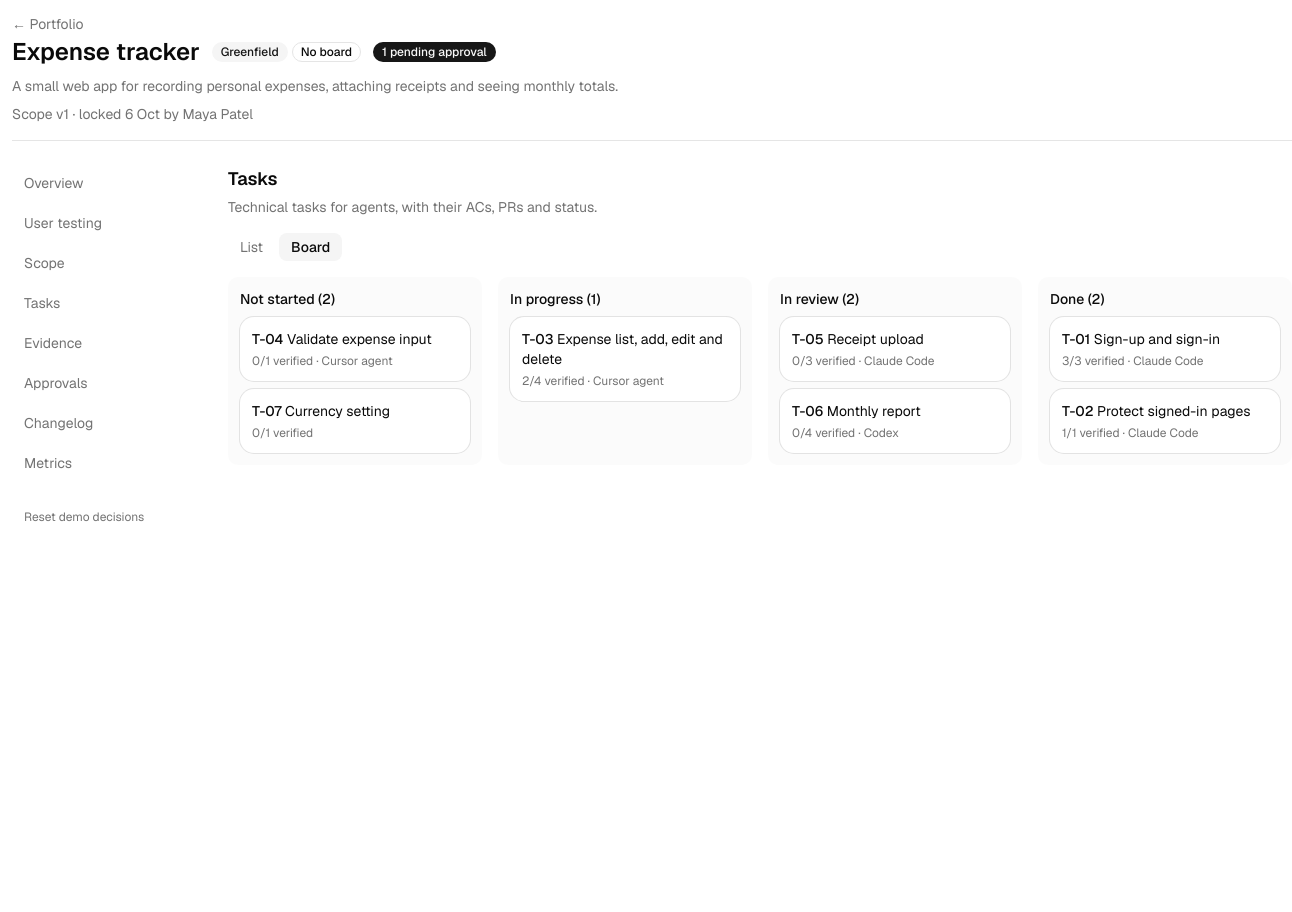
it: TasksView › shows the board with one column per status
Check: the headings read "Not started (2)", "In progress (1)", "In review (2)", "Done (2)", in this order, box [240,290,335,308]; [510,290,601,308]; [780,290,859,308]; [1050,290,1104,308]
Check: the element "Done (2)" is shown, box [1038,277,1291,465]
Click the button "T-05 Receipt upload".
click(858, 339)  # box [792,329,924,349]
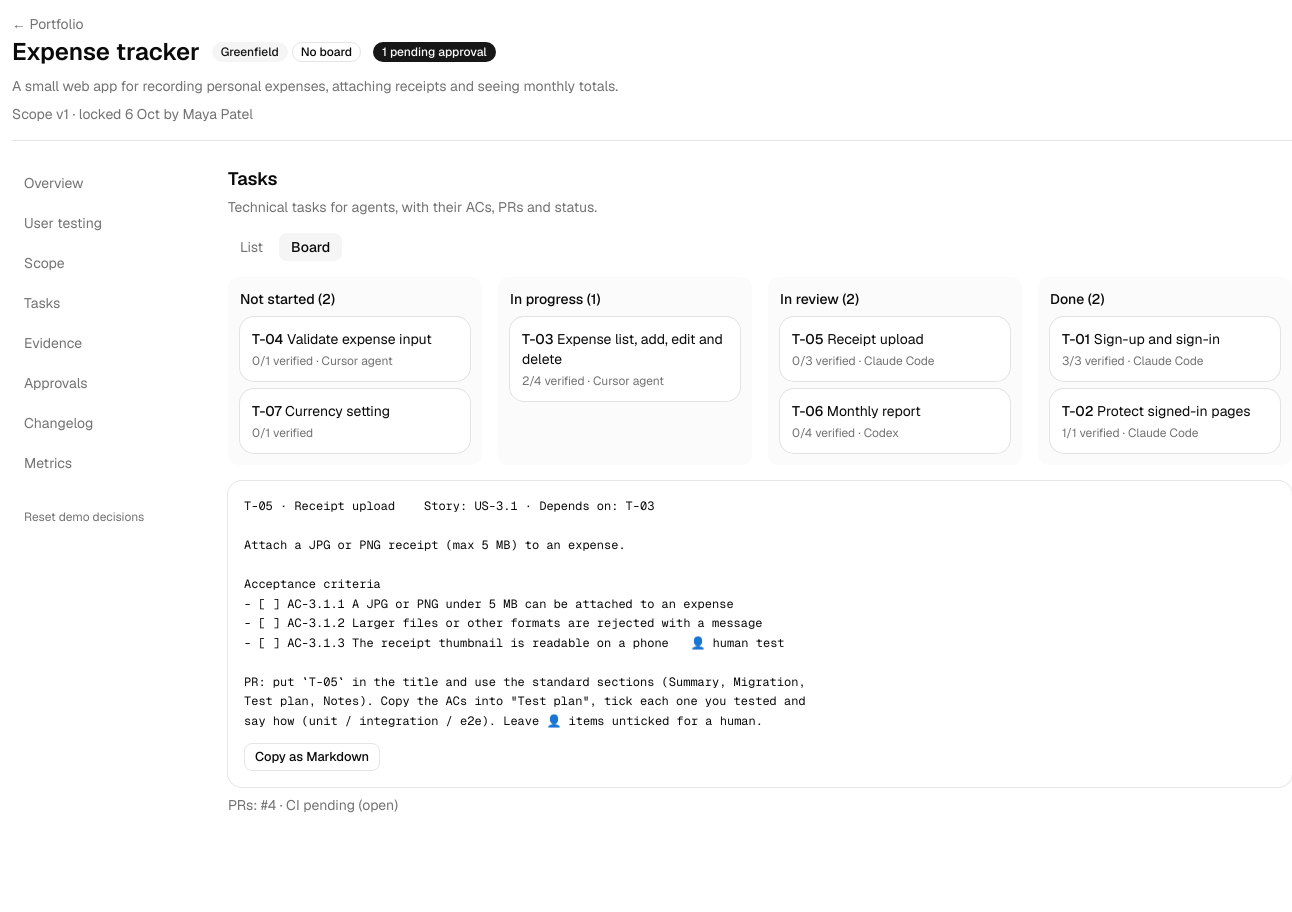
Check: the button with aria-label "Copy T-05 as Markdown" is shown, box [244,743,380,771]
